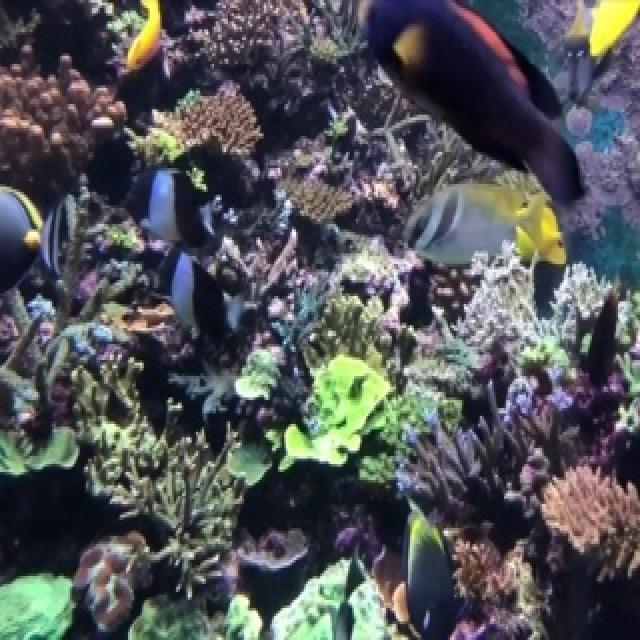fish: (349, 3, 586, 202), (143, 249, 255, 361), (403, 184, 544, 269), (0, 189, 81, 296), (127, 166, 222, 257), (404, 499, 455, 637), (517, 203, 566, 263), (127, 2, 161, 68)
reefs: (68, 359, 244, 598), (395, 369, 628, 537), (0, 44, 127, 177), (541, 466, 638, 581), (72, 533, 148, 629), (155, 93, 265, 155), (0, 573, 75, 637)
